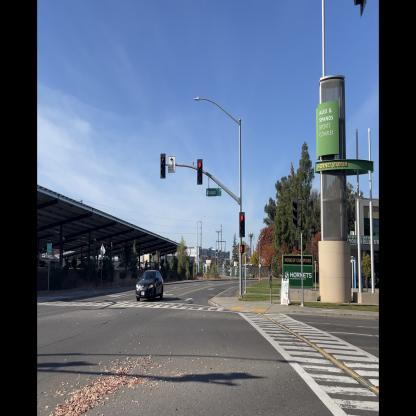left-red: (160, 152, 166, 180)
red: (197, 158, 203, 186), (239, 211, 245, 238)
